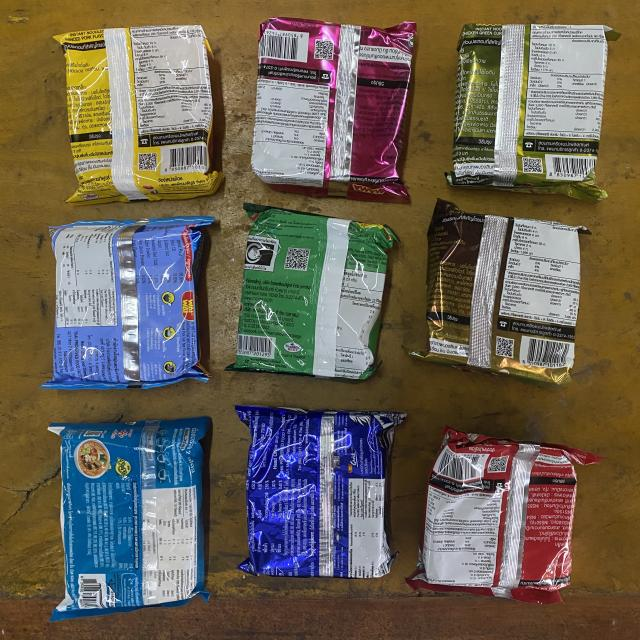plastik: (406, 426, 602, 604), (410, 199, 589, 388), (49, 416, 210, 620), (446, 24, 619, 201), (251, 18, 416, 202), (226, 204, 399, 379), (55, 25, 222, 205), (41, 216, 214, 389), (235, 406, 406, 579)
